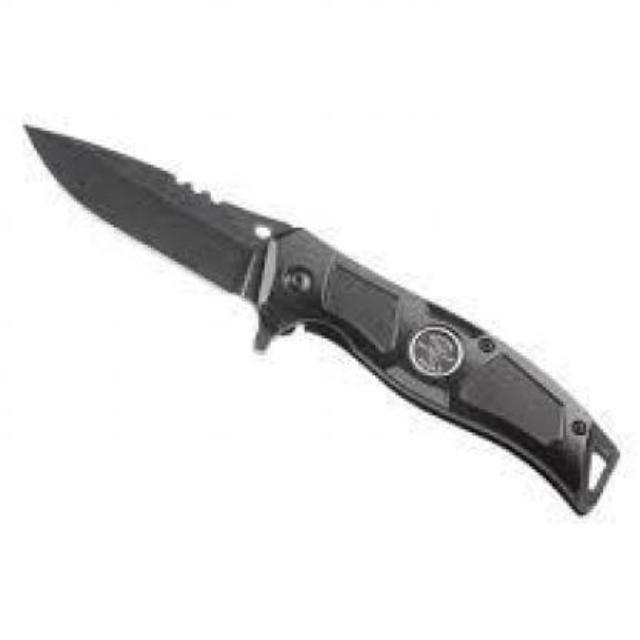Knife: (24, 128, 620, 516)
